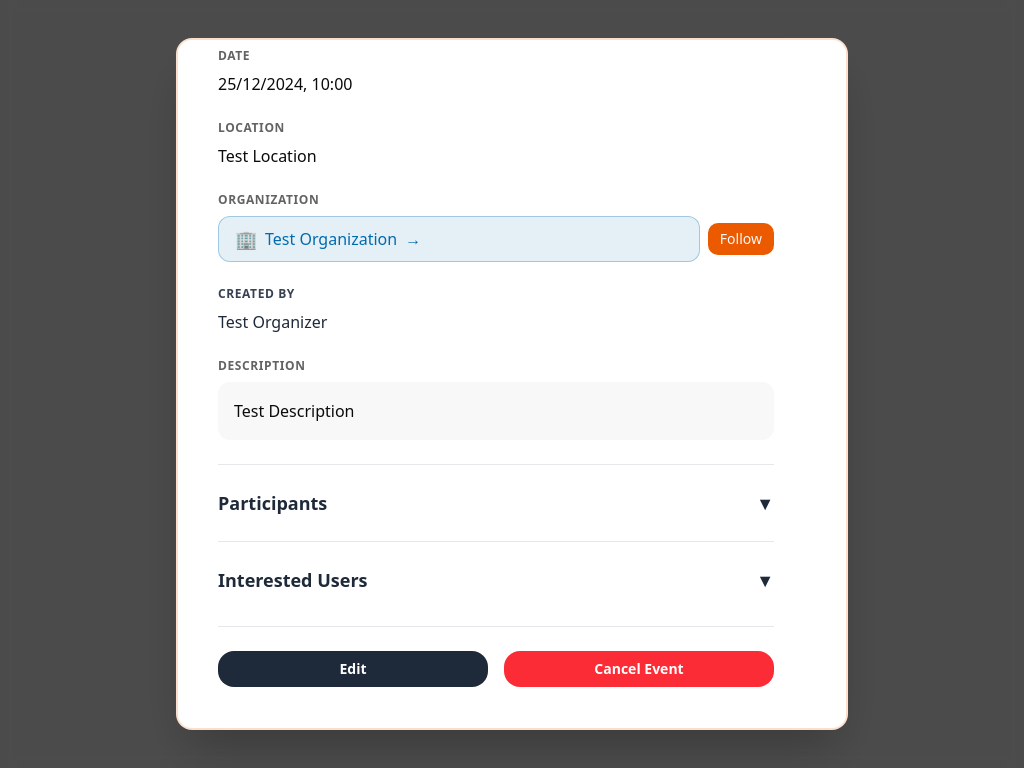
Test: EventModal › Participation Features › Edit Modal › shows validation errors when required fields are empty
(page scrolled)
Click the button "Edit": {"x": 353, "y": 669} [218,651,488,687]
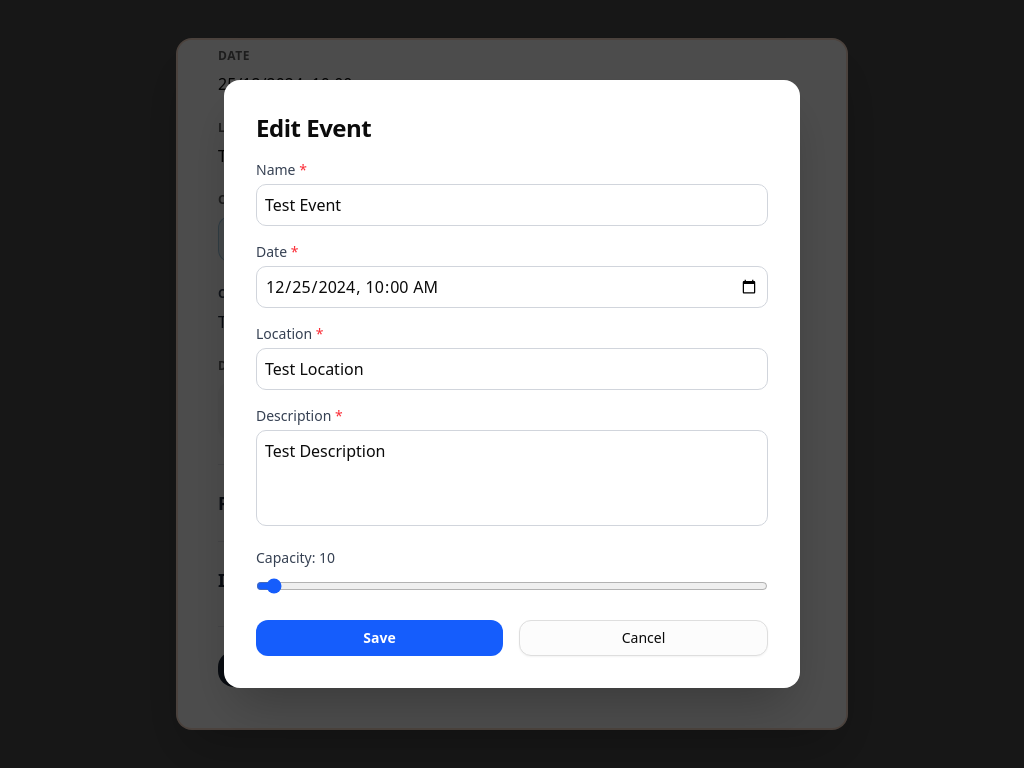
Clear the field showing "Test Event" below "Name": {"x": 512, "y": 205} [256,184,768,226]
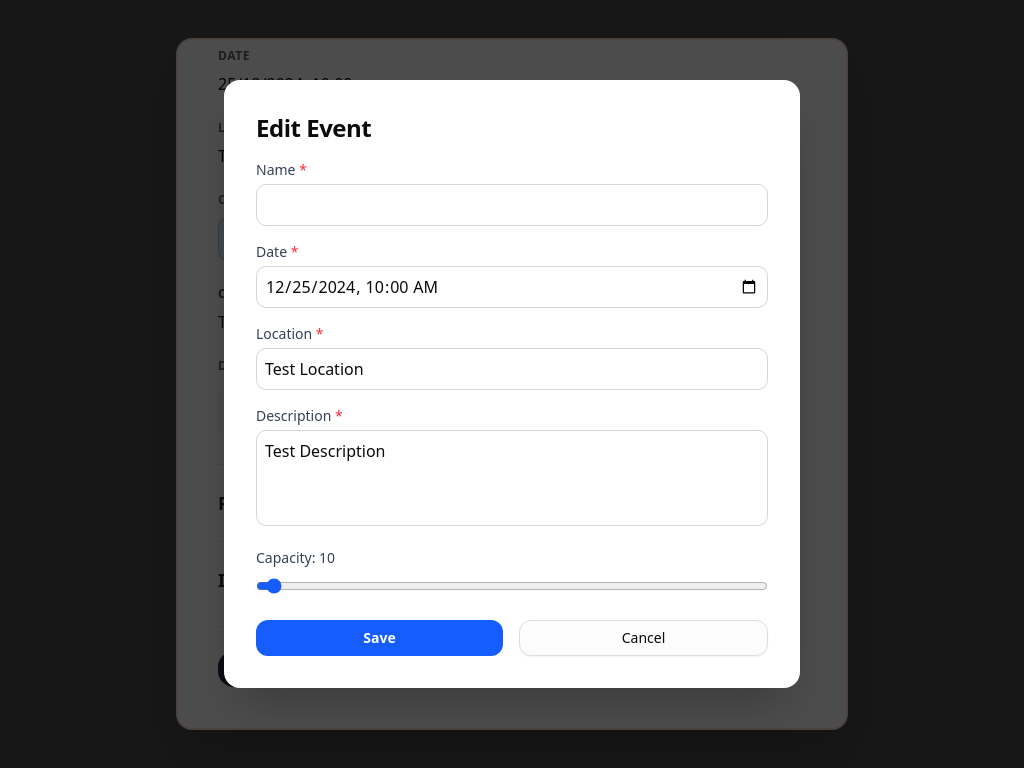
# Click Save (calls validated save)
Click the button "Save": {"x": 380, "y": 638} [256,620,503,656]
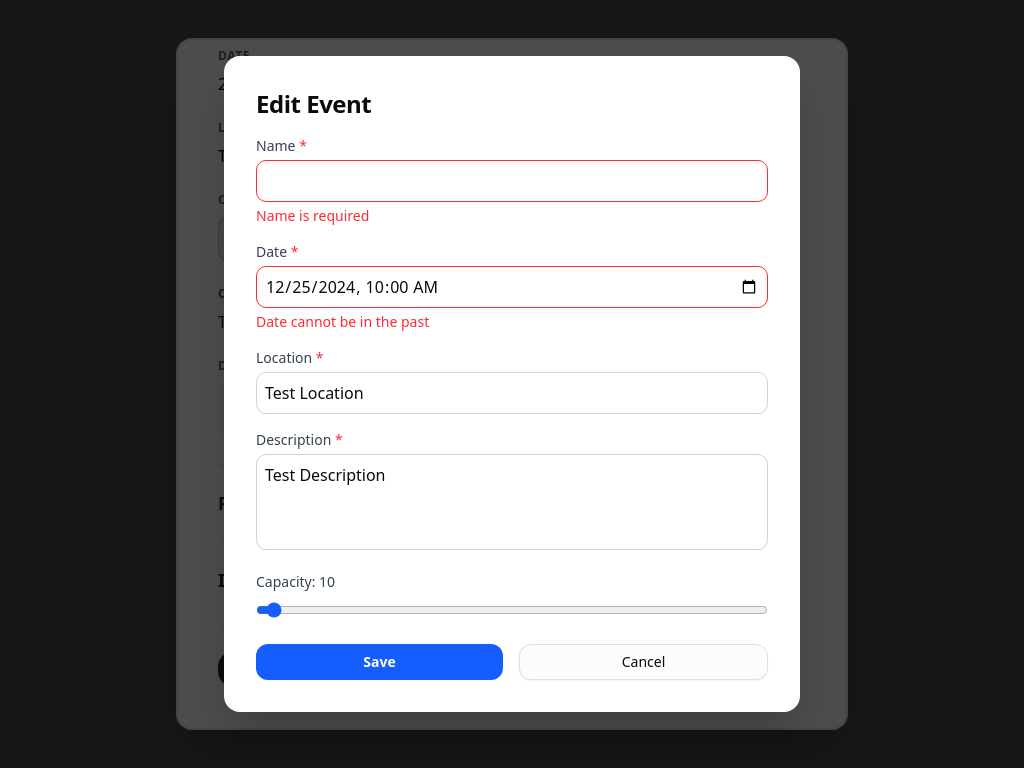
Result: the text "Name is required" is shown at [256,206,369,225]
